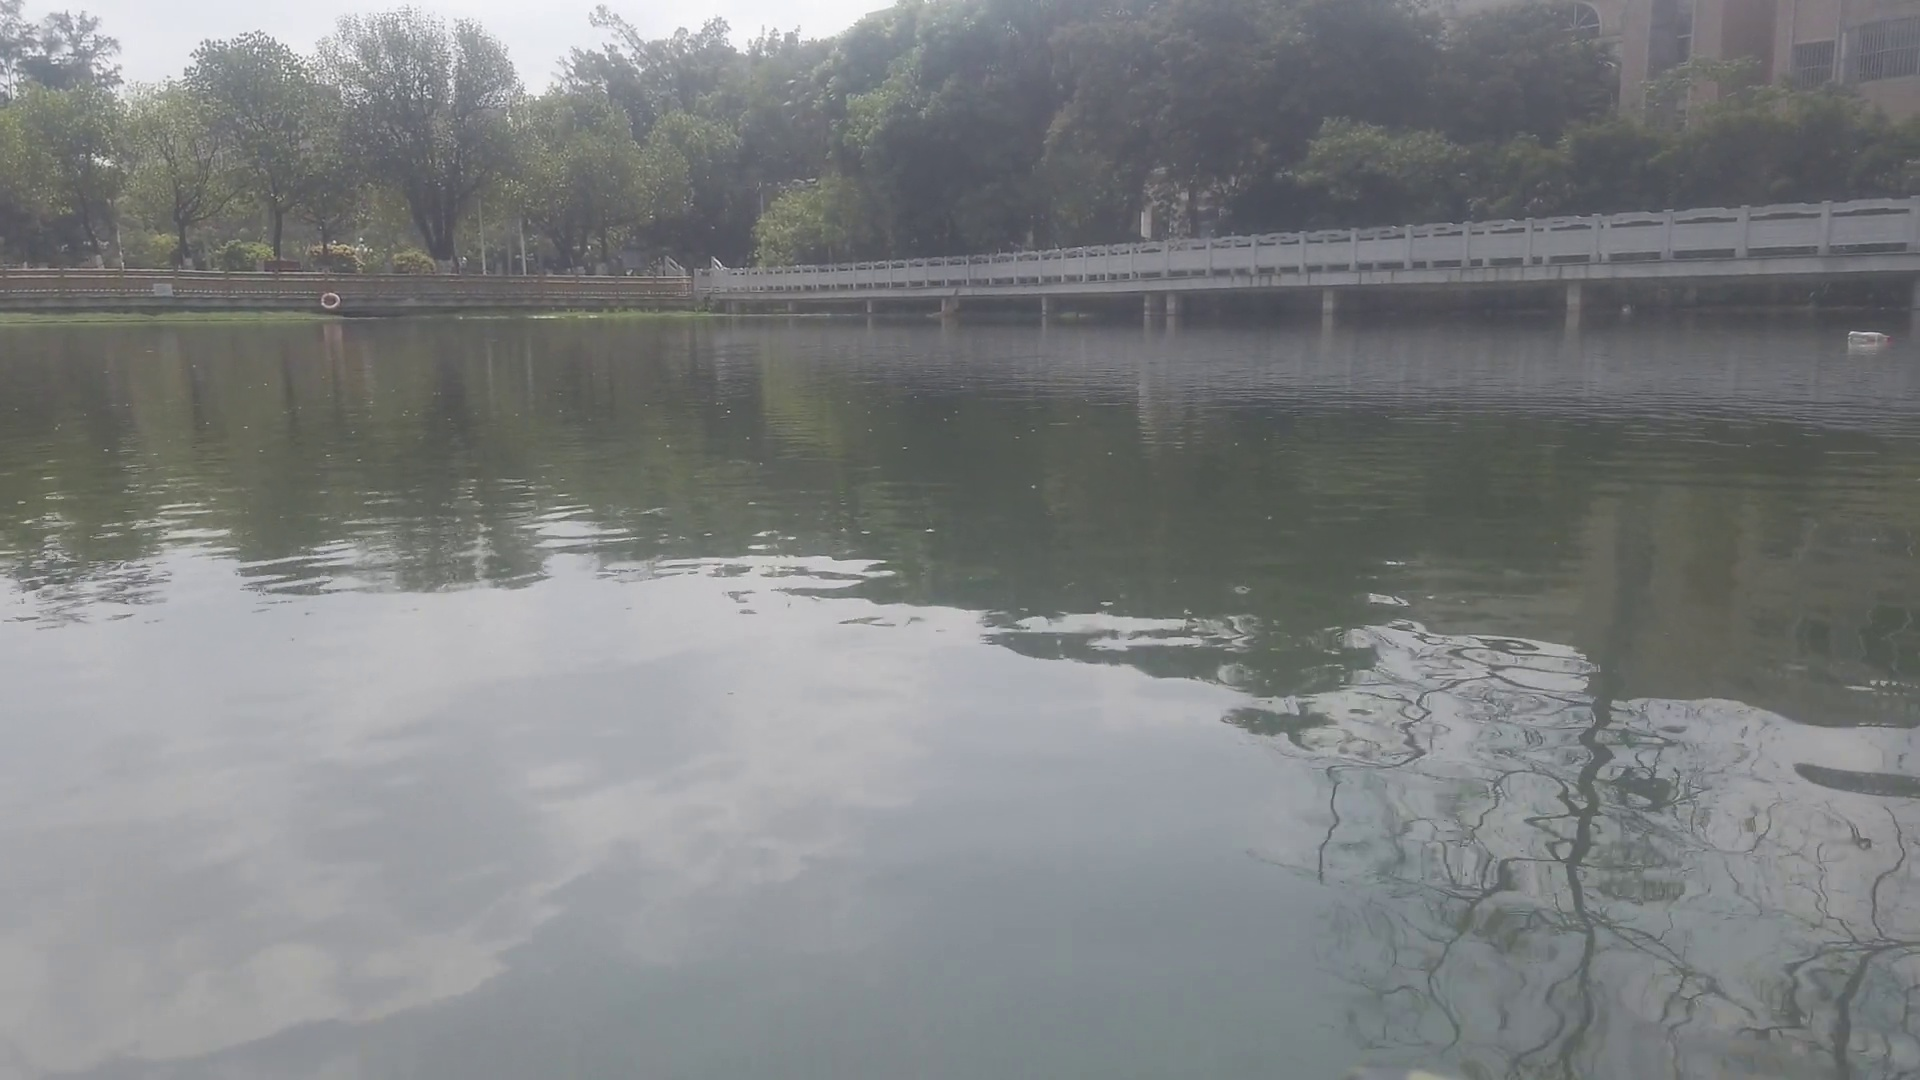bottle: (1846, 326, 1895, 347)
